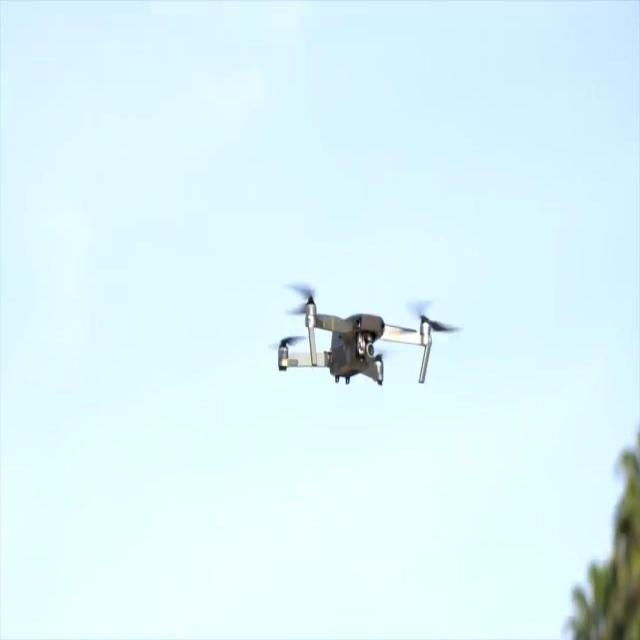drone: (264, 278, 463, 389)
